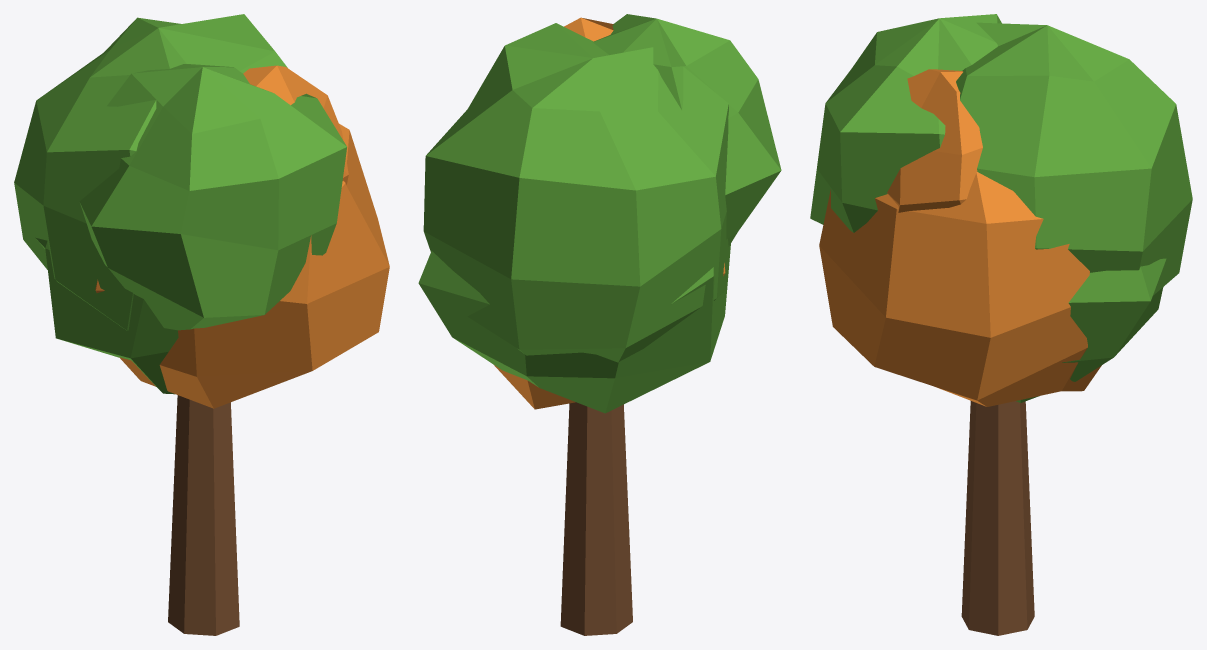
File: tree_autumn.obj
The picture shows the model from 3 angles, left to right: view 1: azimuth 30°, elevation 25°; view 2: azimuth 150°, elevation 25°; view 3: azimuth 270°, elevation 25°; orthographic projection.
Visible parts, largest first — view 1: crown, trunk; view 2: crown, trunk; view 3: crown, trunk.
Boxes of the visible parts, x1,y1,x2,y2 form: crown: [14, 14, 389, 408]; trunk: [168, 395, 239, 635]; crown: [418, 14, 781, 413]; trunk: [560, 402, 632, 635]; crown: [810, 14, 1192, 406]; trunk: [961, 401, 1034, 635].
Bounding box in the file's own units: 1.78 × 3.11 × 1.84.
